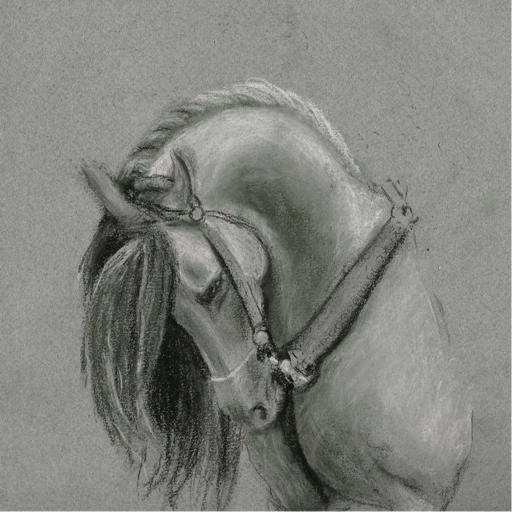horse: (78, 77, 473, 511)
